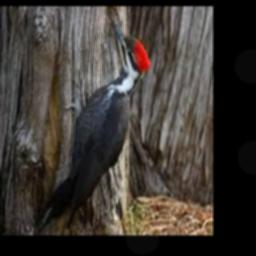Woodpecker: (38, 17, 152, 233)
